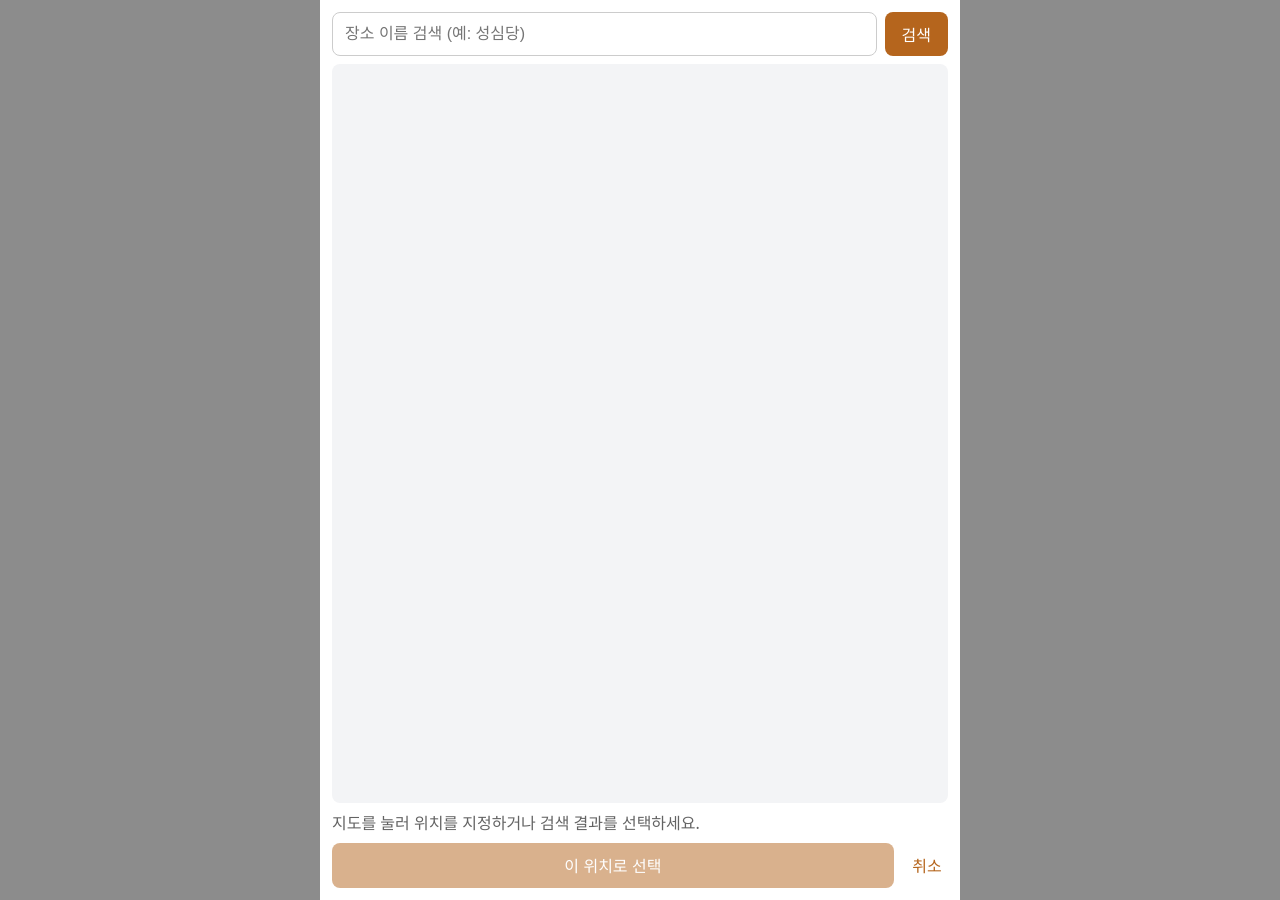
Scenario: LocationPicker keyword search (A8 place search) › shows a no-results message when the search returns nothing
The width and height of the screenshot is (1280, 900).
Type "없는곳" into the search field with test id "picker-search-input" at (604, 34), box [332,12,876,56]
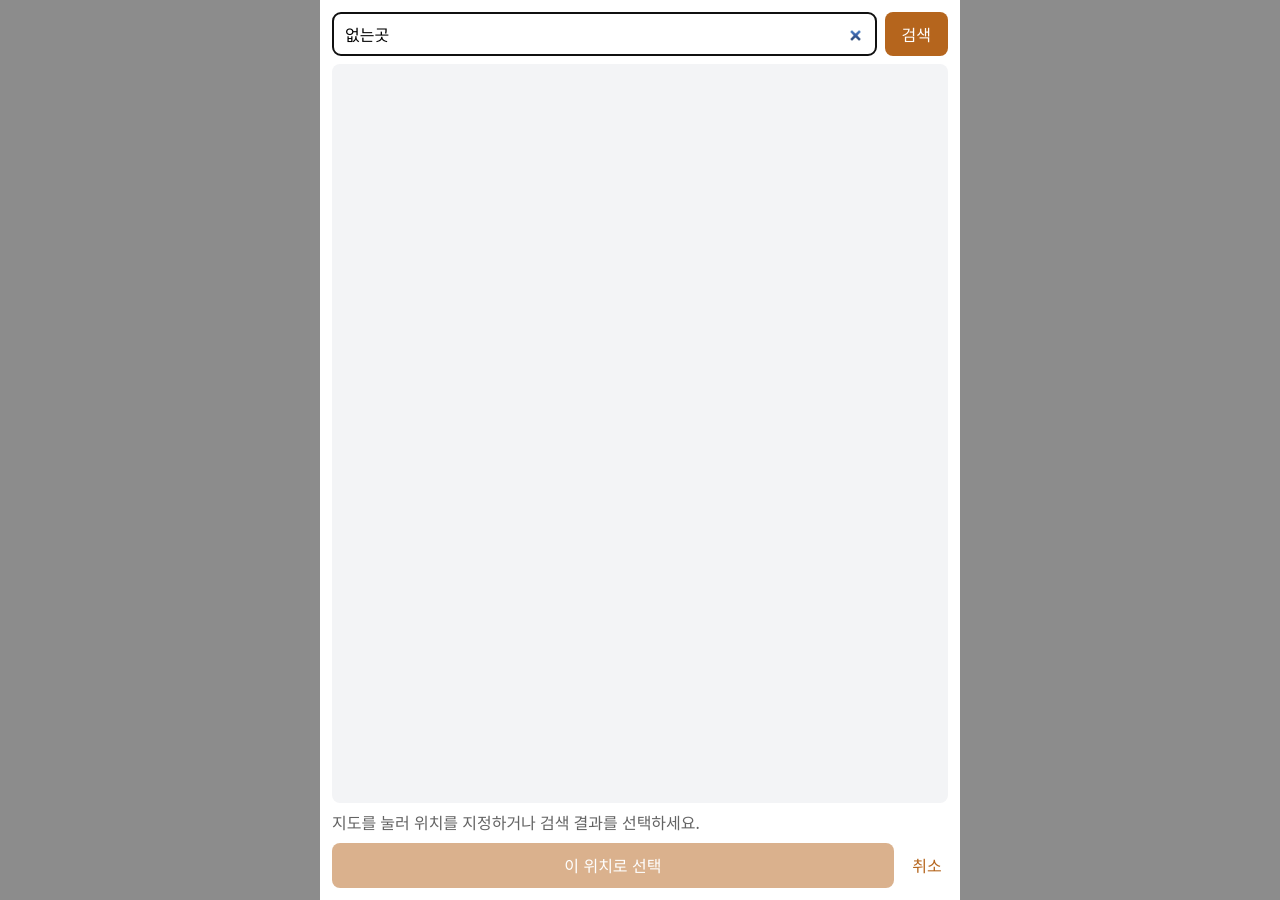
Click the button with test id "picker-search-submit" at (916, 34), box [884,12,948,56]
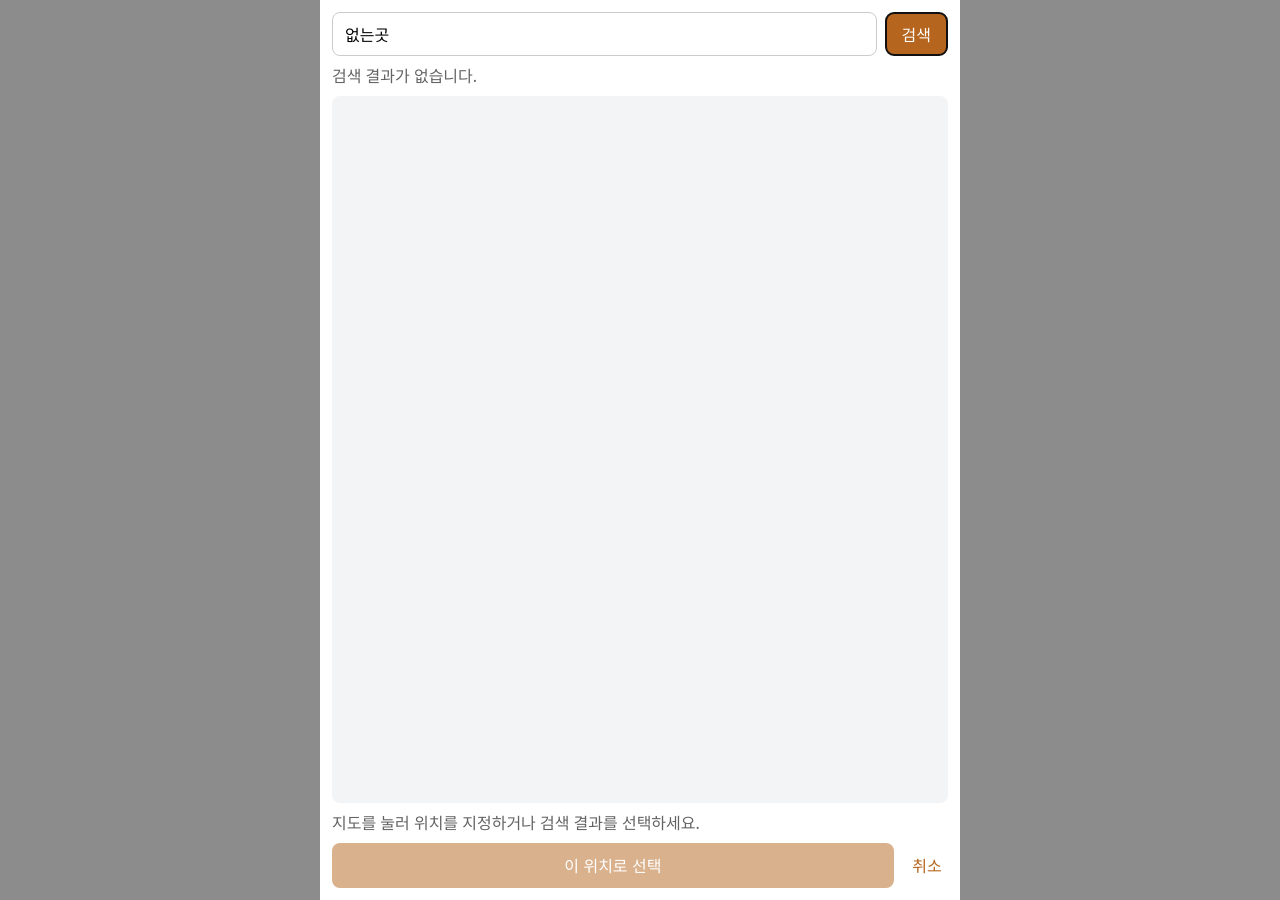
Now the text "검색 결과가 없습니다." is shown, box [332,65,477,87]
